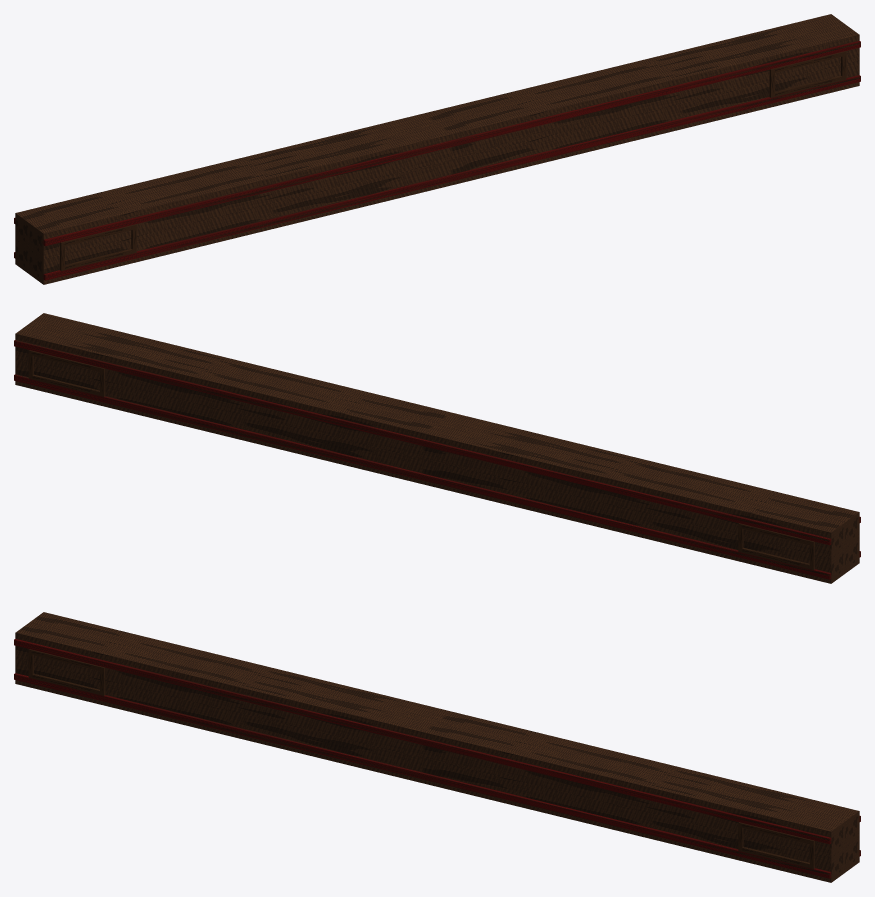
Rendered from beam.glb.
The picture shows the model from 3 angles, top to bottom: view 1: azimuth 30°, elevation 25°; view 2: azimuth 150°, elevation 25°; view 3: azimuth 330°, elevation 25°; orthographic projection.
Parts seen in each view (by area): view 1: Beam, Art_BurntLacquer, Art_WarmWood; view 2: Beam, Art_BurntLacquer, Art_WarmWood; view 3: Beam, Art_BurntLacquer, Art_WarmWood.
Part boxes in pixels (x1,y1,x2,y2): Beam: [15, 14, 859, 284]; Art_BurntLacquer: [14, 40, 860, 280]; Art_WarmWood: [60, 51, 846, 271]; Beam: [15, 313, 859, 583]; Art_BurntLacquer: [14, 339, 860, 579]; Art_WarmWood: [28, 350, 814, 570]; Beam: [15, 612, 859, 882]; Art_BurntLacquer: [14, 638, 860, 878]; Art_WarmWood: [28, 649, 814, 869].
Size of what is drawn, in the model's own units: 4 by 0.24 by 0.2764.
3 materials, 3 textured.
